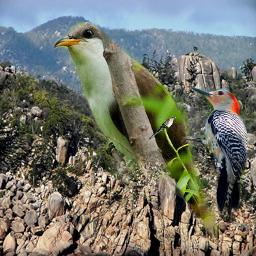Cuckoo: (48, 22, 229, 239), (148, 116, 177, 140)
Woodpecker: (181, 88, 247, 217)
